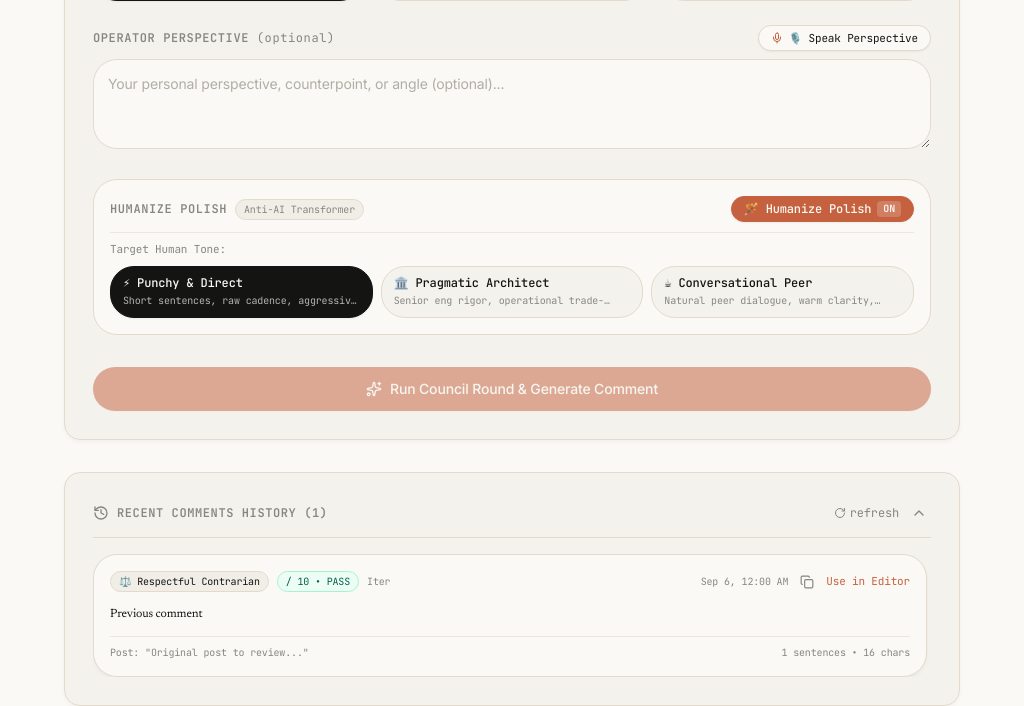
Test case: CommentingTab › populates editor when clicking Use in Editor from history
This screenshot has width=1024, height=706.
(page scrolled)
Click the button "Use in Editor".
click(868, 582)  # box 826,573 -> 910,590
(page scrolled)
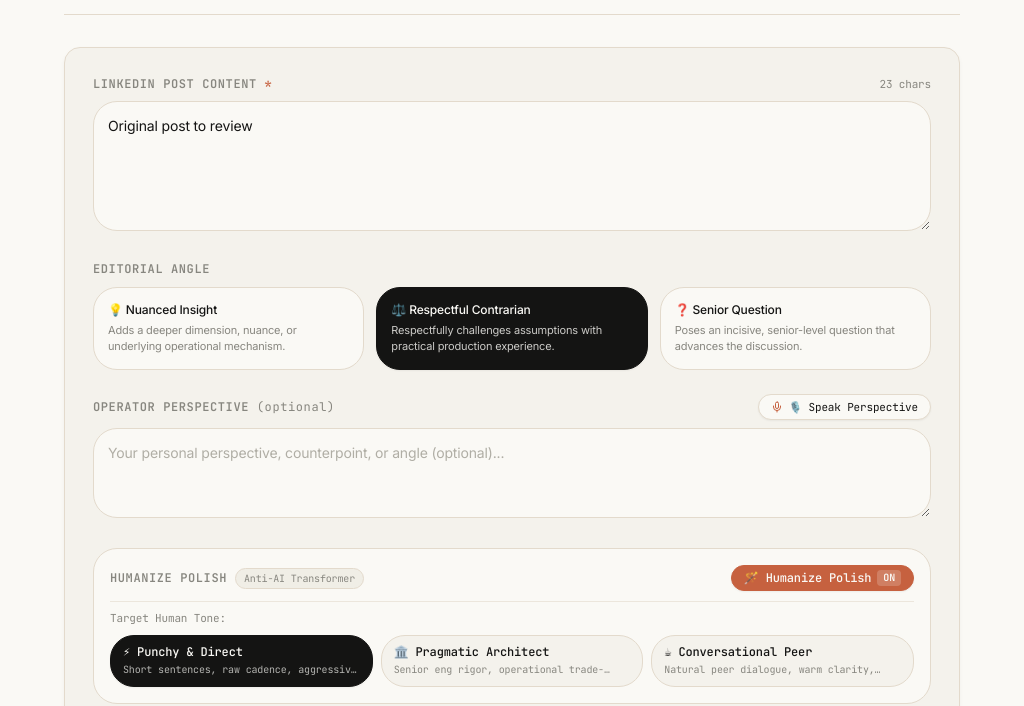
expect the text box with placeholder "Paste the LinkedIn post content you want to comment on..." holds "Original post to review": met, box 93,100 -> 931,230
